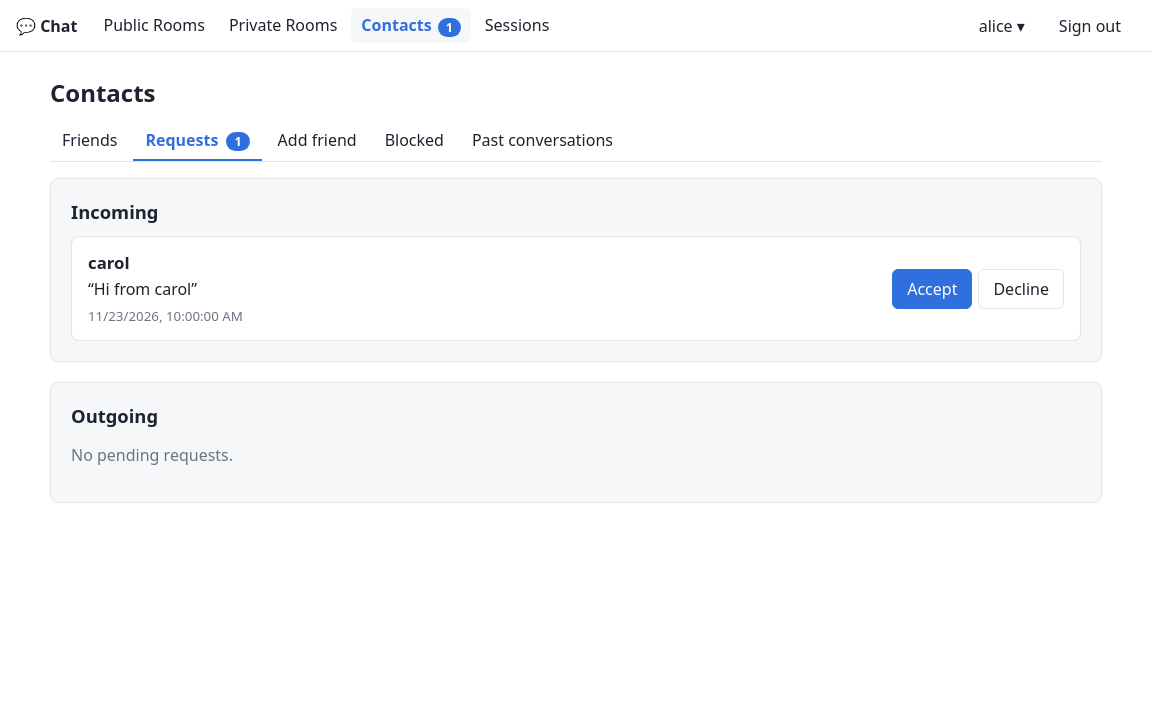
Scenario: contacts page › accepts an incoming request and opens the DM
The width and height of the screenshot is (1152, 720).
Expected: the text "“Hi from carol”" is shown, [88, 278, 197, 300]
Step 1. Click the button "Accept" → x=932, y=289, box [892, 269, 972, 309]
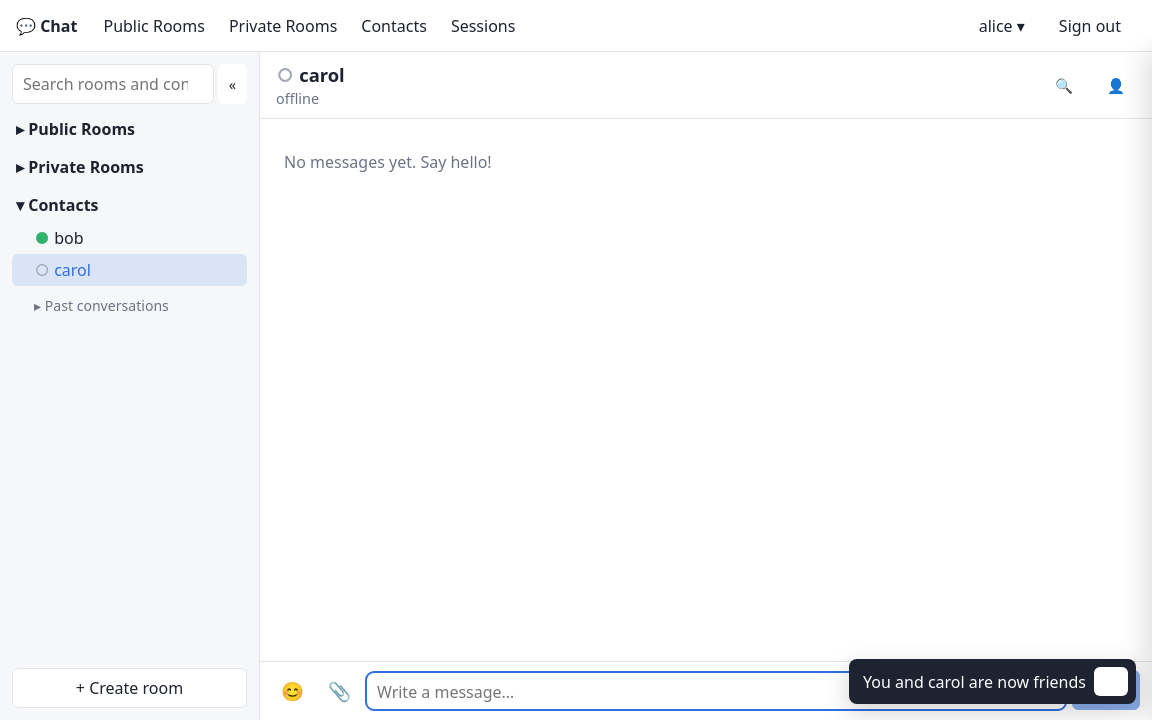
Expected: the text "You and carol are now friends" is shown, [863, 670, 1086, 692]
